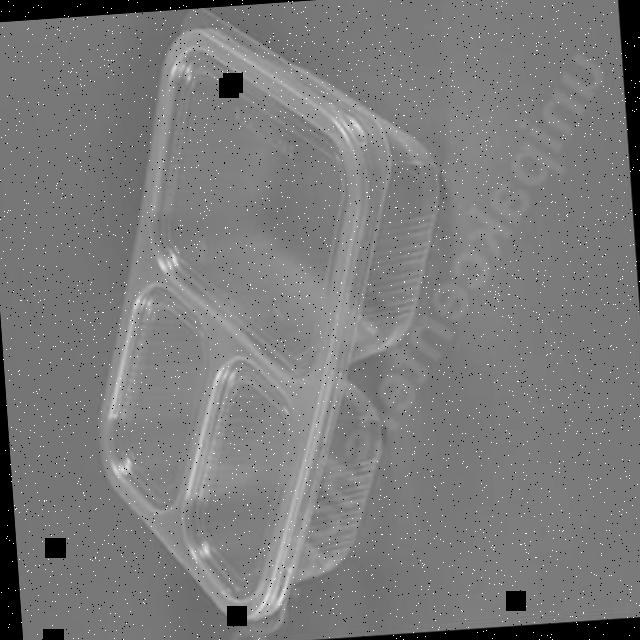plastic_box: (66, 0, 472, 633)
